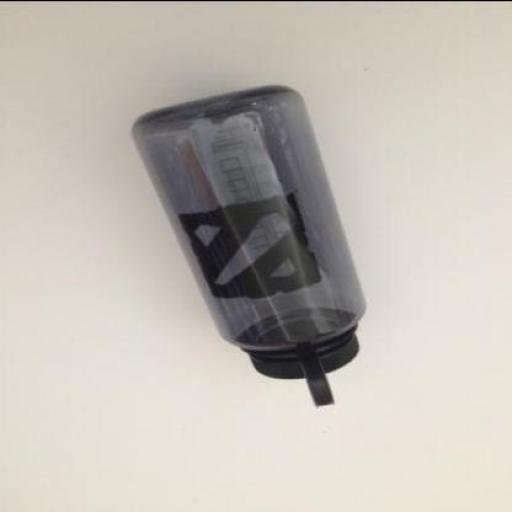plastic: (135, 84, 366, 407), (238, 308, 363, 405)
